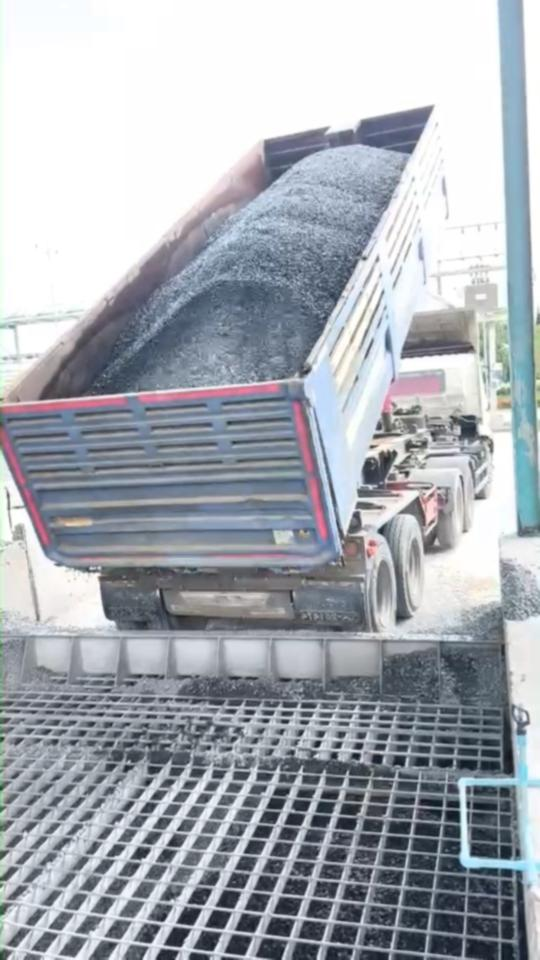gravel: (92, 145, 408, 392), (383, 603, 506, 705), (2, 610, 77, 686), (502, 560, 540, 620), (200, 672, 272, 695)
